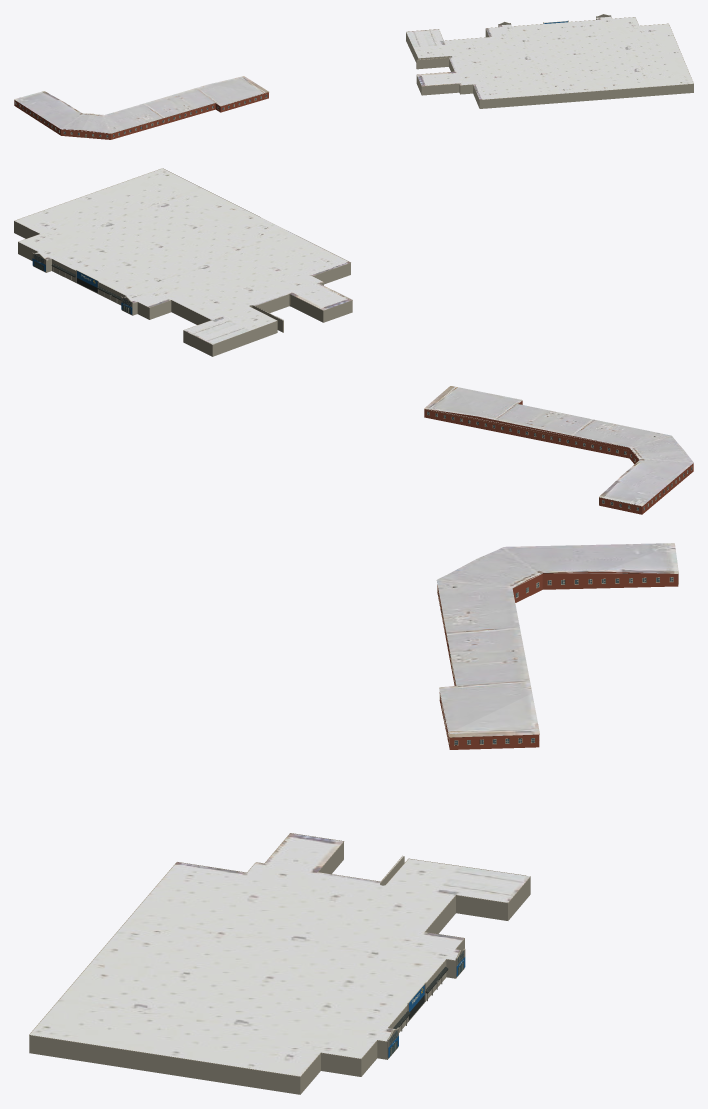
The picture shows the model from 3 angles, top to bottom: view 1: azimuth 30°, elevation 25°; view 2: azimuth 150°, elevation 25°; view 3: azimuth 270°, elevation 25°; orthographic projection. The views are drawn at different scales.
Parts seen in each view (by area): view 1: -9_1_270909546_0, -9_1_271016805_2; view 2: -9_1_270909546_0, -9_1_271016805_2; view 3: -9_1_270909546_0, -9_1_271016805_2.
Part boxes in pixels (x1,y1,x2,y2): -9_1_270909546_0: [14, 16, 693, 139]; -9_1_271016805_2: [406, 14, 693, 108]; -9_1_270909546_0: [14, 168, 693, 514]; -9_1_271016805_2: [14, 221, 352, 356]; -9_1_270909546_0: [29, 543, 678, 1076]; -9_1_271016805_2: [29, 842, 530, 1094].
Size of the model in its own units: 459 by 12.82 by 230.
Materials: 18 (1 with a texture image).
